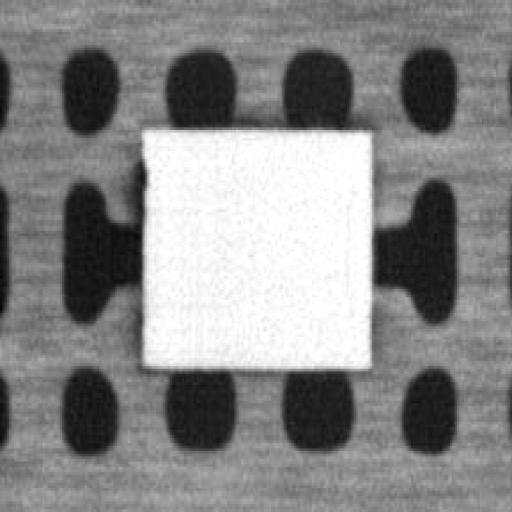DIE_BROKEN: (133, 151, 147, 194)
